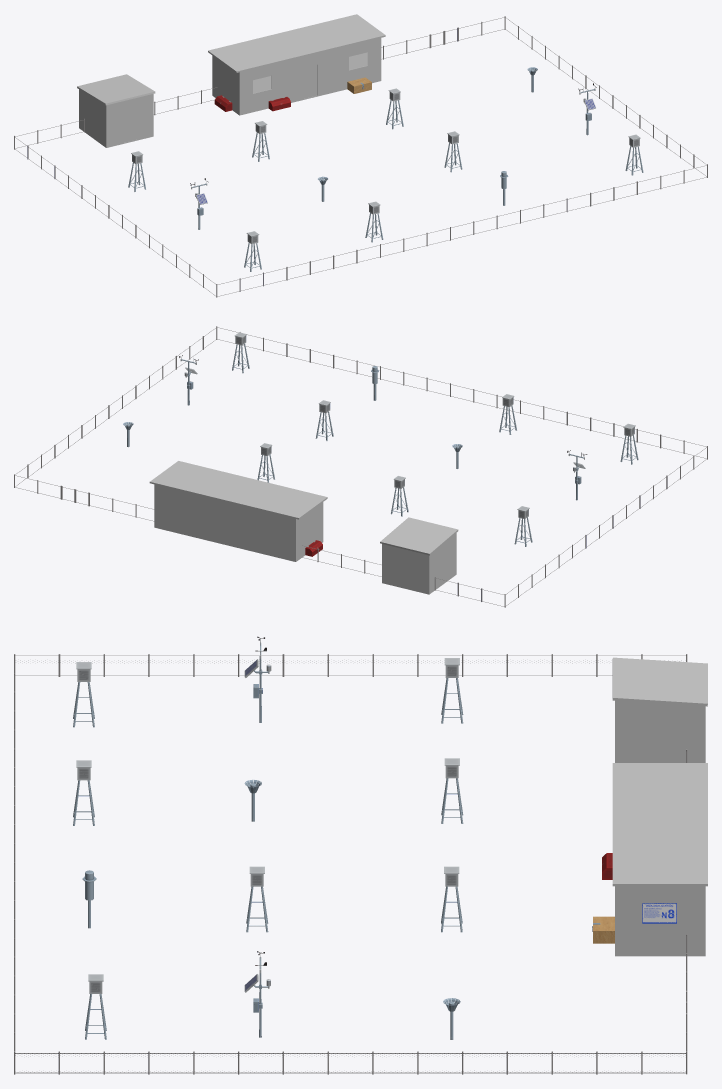
The model's file is Meteoestacion.fbx.
3 views of the same model, one above another, from view 1: azimuth 30°, elevation 25°; view 2: azimuth 150°, elevation 25°; view 3: azimuth 270°, elevation 25° (orthographic). The views are drawn at different scales.
Visible parts, largest first — view 1: changeHaus01.002, changeHaus04.001, fence.068, changeHaus01.004, changeHaus04.002, door; view 2: changeHaus01.002, changeHaus04.001, fence.068, changeHaus01.004, changeHaus04.002; view 3: changeHaus04.001, fence.068, changeHaus01.002, changeHaus01.004, changeHaus04.002, tabl08.
Boxes of the visible parts, <box> form: changeHaus01.002: <box>212,38,381,114</box>; changeHaus04.001: <box>208,14,385,72</box>; fence.068: <box>14,16,707,297</box>; changeHaus01.004: <box>79,89,153,147</box>; changeHaus04.002: <box>77,74,155,105</box>; door: <box>303,65,317,98</box>; changeHaus01.002: <box>154,484,323,561</box>; changeHaus04.001: <box>149,461,327,519</box>; fence.068: <box>14,326,707,607</box>; changeHaus01.004: <box>382,533,456,593</box>; changeHaus04.002: <box>380,517,458,555</box>; changeHaus04.001: <box>612,763,707,886</box>; fence.068: <box>14,654,687,1074</box>; changeHaus01.002: <box>615,886,705,954</box>; changeHaus01.004: <box>615,700,705,762</box>; changeHaus04.002: <box>612,657,707,706</box>; tabl08: <box>642,903,676,923</box>.
Bounding box in the file's own units: 4154 × 393 × 3061.
